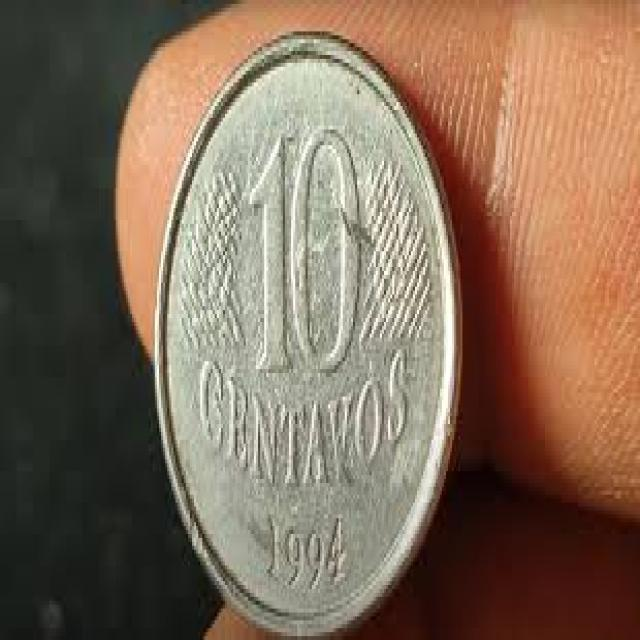10 cent: (188, 59, 426, 598)
